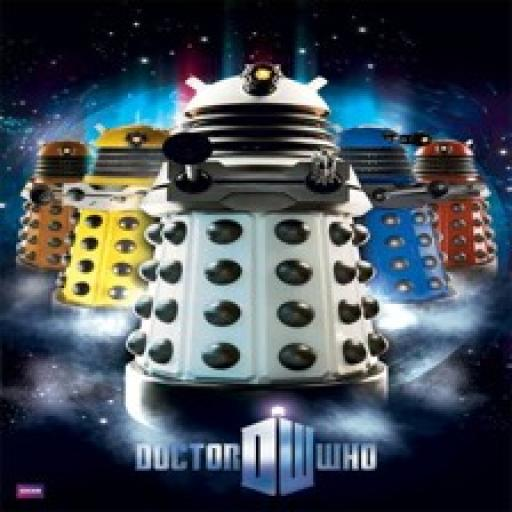dalek: (117, 54, 394, 434), (316, 121, 467, 316), (56, 118, 176, 340), (408, 130, 502, 294), (8, 133, 92, 282)
